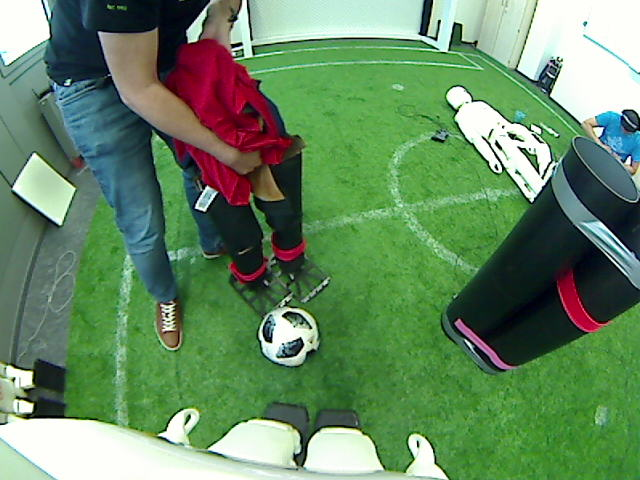ball: (268, 321, 308, 354)
goalpost: (238, 30, 261, 61), (437, 13, 452, 53)
robot: (455, 305, 495, 358), (275, 235, 306, 303), (23, 358, 75, 393), (518, 145, 553, 192)
